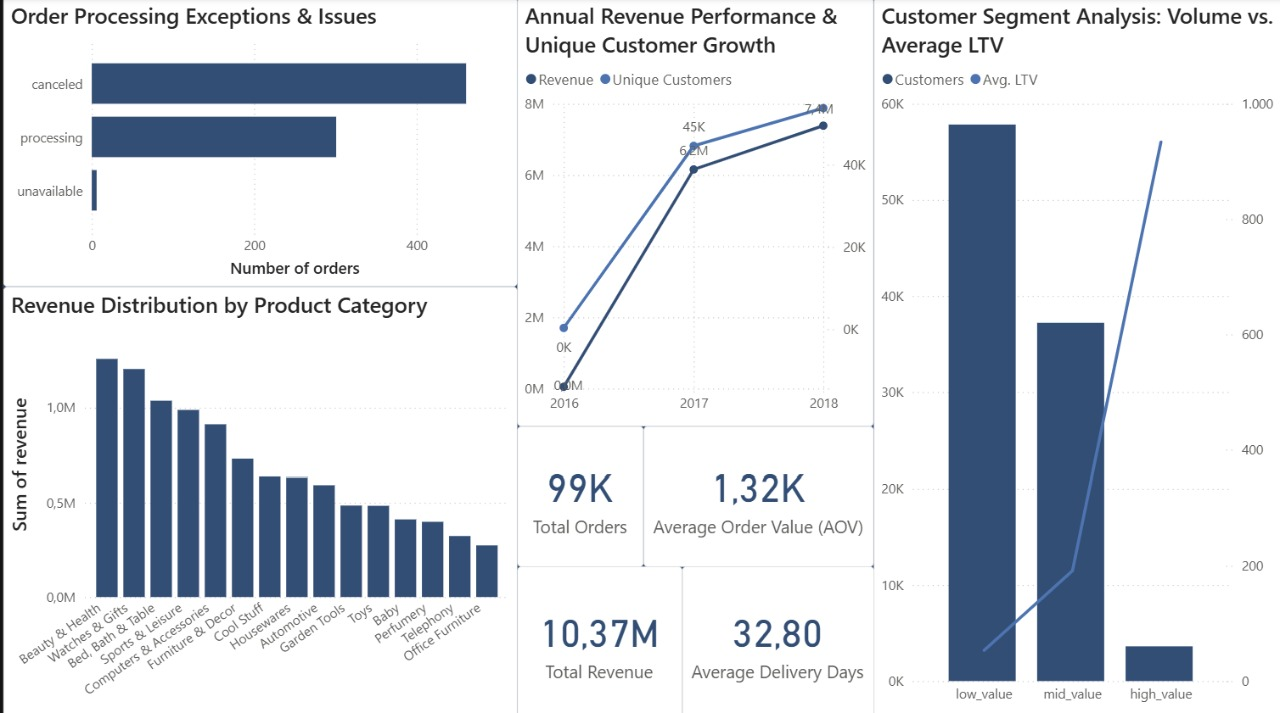

This screenshot's page, from the dashboard's own definition file:
{"tool":"powerbi","page":{"name":"Page 1","canvas":[1280,720],"ordinal":0},"visuals":[{"type":"clusteredColumnChart","title":"Revenue Distribution by Product Category","fields":{"Category":["public v_category_performance.Product_Category_English"],"Y":["Sum(public v_category_performance.revenue)"]},"box":[0,289.8,514.3,429.6],"z":0},{"type":"lineChart","title":"Annual Revenue Performance & Unique Customer Growth","fields":{"Category":["public v_monthly_performance.month.Variation.Date Hierarchy.Year","public v_monthly_performance.month.Variation.Date Hierarchy.Quarter","public v_monthly_performance.month.Variation.Date Hierarchy.Month","public v_monthly_performance.month.Variation.Date Hierarchy.Day"],"Y":["Sum(public v_monthly_performance.revenue)"],"Y2":["Sum(public v_monthly_performance.unique_customers)"]},"box":[514.3,0,356.7,429.6],"z":1000},{"type":"clusteredBarChart","title":"Order Processing Exceptions & Issues","fields":{"Category":["public v_delivery_quality.order_status"],"Y":["Sum(public v_delivery_quality.orders)"]},"box":[0,0,514.3,289.8],"z":2000},{"type":"lineClusteredColumnComboChart","title":"Customer Segment Analysis: Volume vs. Average LTV","fields":{"Category":["public v_customer_segments.customer_segment"],"Y":["Sum(public v_customer_segments.customers)"],"Y2":["Sum(public v_customer_segments.avg_ltv)"]},"box":[871,0,408.8,719.4],"z":3000},{"type":"card","title":"Total Orders","fields":{"Values":["Sum(public v_monthly_performance.total_orders)"]},"box":[514.3,429.6,126.3,139.7],"z":4000},{"type":"card","fields":{"Values":["Sum(public v_category_performance.revenue)"]},"box":[514.3,569.3,165,150.1],"z":5000},{"type":"card","fields":{"Values":["Sum(public v_delivery_quality.avg_order_value)"]},"box":[640.6,429.6,230.4,139.7],"z":6000},{"type":"card","fields":{"Values":["Sum(public v_delivery_quality.avg_delivery_days)"]},"box":[679.3,569.3,191.7,150.1],"z":7000}]}

Visuals, with their boxes in screenshot pixels (x1, y1, x2, y2), scaled from the page's 1280x720 canvas onto the 1280x713 screenshot:
"Revenue Distribution by Product Category" clusteredColumnChart: <bbox>0, 287, 514, 712</bbox>
"Annual Revenue Performance & Unique Customer Growth" lineChart: <bbox>514, 0, 871, 425</bbox>
"Order Processing Exceptions & Issues" clusteredBarChart: <bbox>0, 0, 514, 287</bbox>
"Customer Segment Analysis: Volume vs. Average LTV" lineClusteredColumnComboChart: <bbox>871, 0, 1279, 712</bbox>
"Total Orders" card: <bbox>514, 425, 641, 564</bbox>
card - Sum(public v_category_performance.revenue): <bbox>514, 564, 679, 712</bbox>
card - Sum(public v_delivery_quality.avg_order_value): <bbox>641, 425, 871, 564</bbox>
card - Sum(public v_delivery_quality.avg_delivery_days): <bbox>679, 564, 871, 712</bbox>
